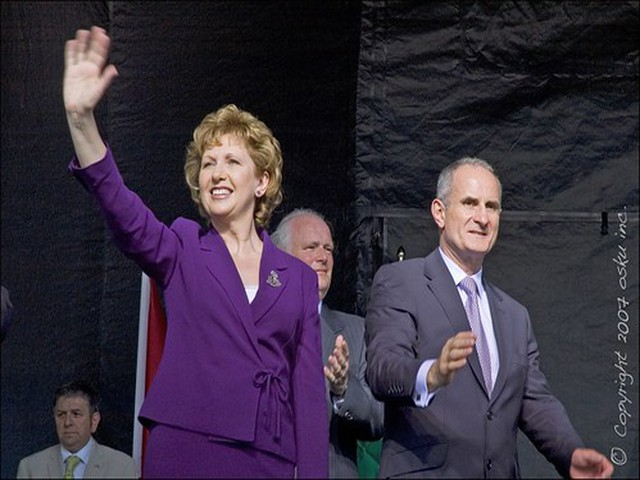Person: (130, 99, 621, 479), (15, 375, 140, 478)
